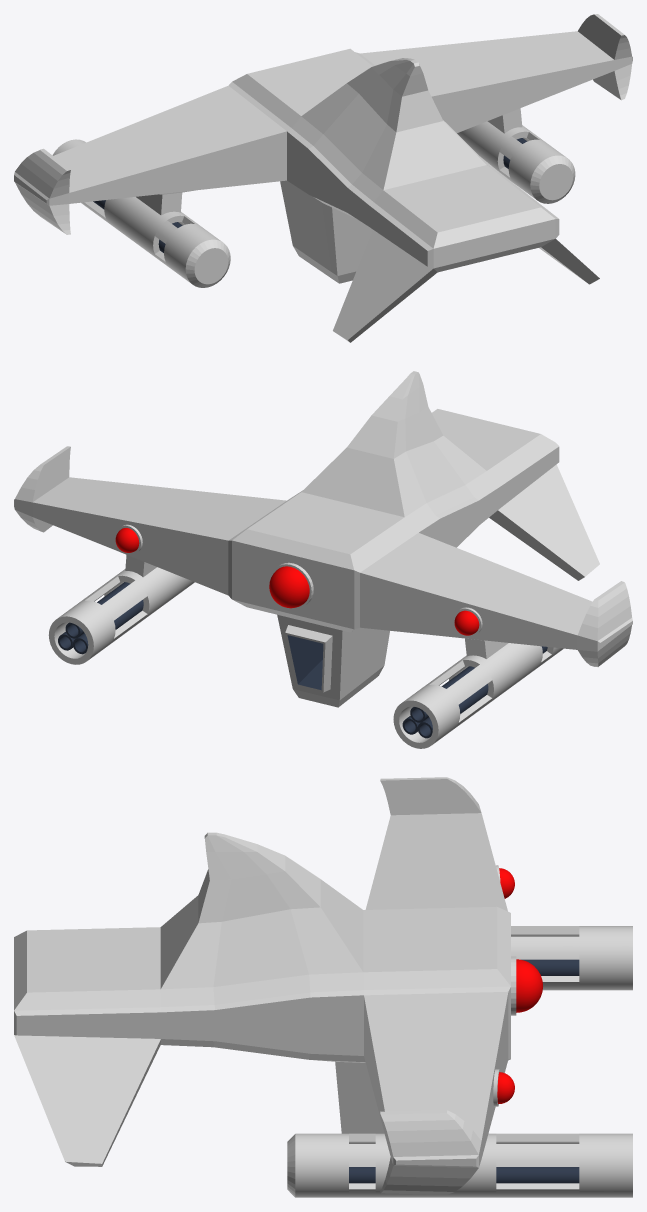
Rendered from Boss_002.fbx.
The picture shows the model from 3 angles, top to bottom: view 1: azimuth 30°, elevation 25°; view 2: azimuth 150°, elevation 25°; view 3: azimuth 270°, elevation 25°; orthographic projection. The views are drawn at different scales.
Visible parts, largest first — view 1: bossBody_001, bossGunCaseLeft_001, bossGunCaseRight_001; view 2: bossBody_001, bossGunCaseLeft_001, bossGunCaseRight_001, bossMainCore_001, bossLeftCore_001, bossRightCore_001, bossGunBarrelLeft_002, bossGunBarrelRight_003; view 3: bossBody_001, bossGunCaseRight_001, bossGunCaseLeft_001, bossGunBarrelRight_002, bossMainCore_001, bossGunBarrelLeft_003, bossRightCore_001.
Boxes of the visible parts, <box> form: bossBody_001: <box>14,14,632,342</box>; bossGunCaseLeft_001: <box>52,139,230,287</box>; bossGunCaseRight_001: <box>457,121,575,203</box>; bossBody_001: <box>14,371,632,707</box>; bossGunCaseLeft_001: <box>393,643,563,748</box>; bossGunCaseRight_001: <box>48,567,194,664</box>; bossMainCore_001: <box>269,562,313,608</box>; bossLeftCore_001: <box>453,607,482,636</box>; bossRightCore_001: <box>115,524,142,554</box>; bossGunBarrelLeft_002: <box>417,646,547,738</box>; bossGunBarrelRight_003: <box>73,600,143,654</box>; bossBody_001: <box>14,777,510,1194</box>; bossGunCaseRight_001: <box>287,1133,632,1197</box>; bossGunCaseLeft_001: <box>511,926,632,990</box>; bossGunBarrelRight_002: <box>349,1167,579,1183</box>; bossMainCore_001: <box>511,956,542,1015</box>; bossGunBarrelLeft_003: <box>521,959,579,975</box>; bossRightCore_001: <box>493,1069,514,1106</box>.
Bounding box in the file's own units: 312 × 132 × 231.
